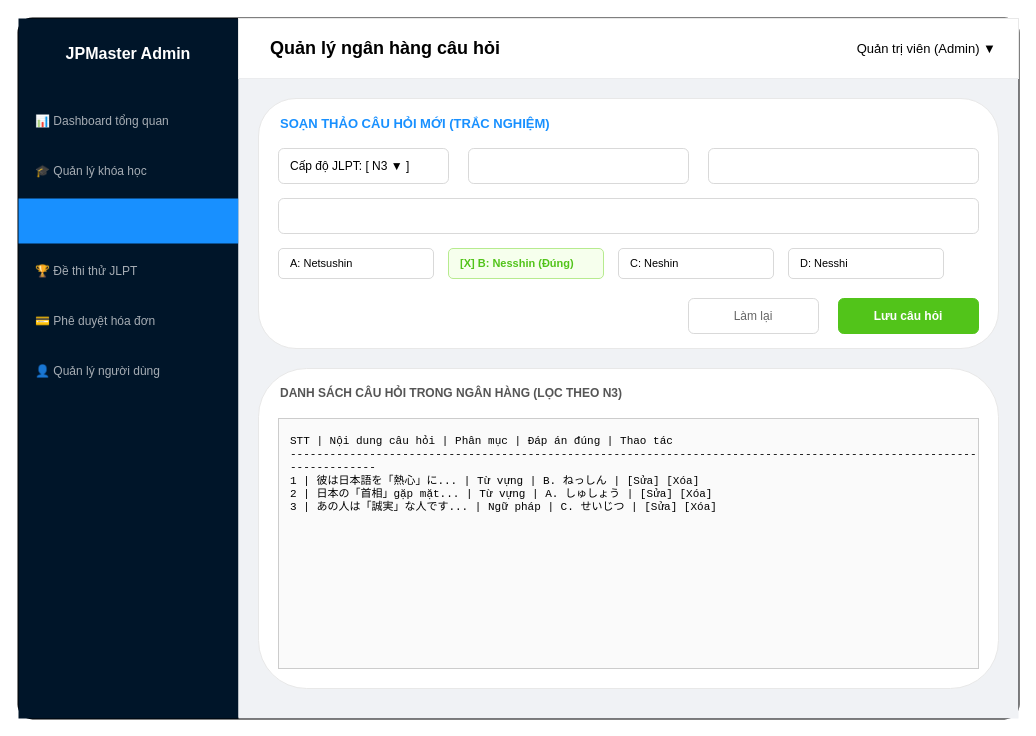
Some shapes in this 1036 by 736 pixel diagram are drawn without their labels. The centre of each missing label's shape, as x and y in pixels:
[ 📝 Ngân hàng câu hỏi ]: point 128,220
Mã nhóm câu hỏi: [ Chọn nhóm ▼ ]: point 843,166
Nội dung câu hỏi: Nhập câu hỏi chữ Hán/Ngữ pháp tại đây...: point 628,216
Phân mục: [ Kiến thức ngôn ngữ ▼ ]: point 578,166
